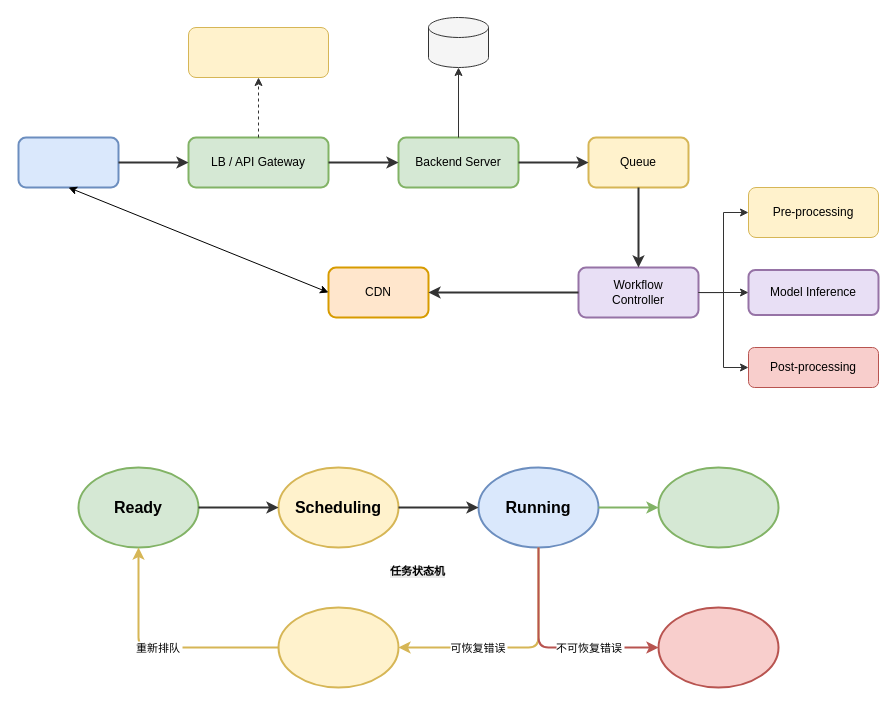
Some shapes in this 896 by 706 pixel diagram are drawn without their labels. Here are the shapes that lost their labels. From the top down, the centre of each, then its label:
At (x=258, y=52): "Rate Limiter Check Quota".
At (x=458, y=42): "DB".
At (x=68, y=162): "Client".
At (x=718, y=507): "Completed".
At (x=338, y=647): "Retry".
At (x=718, y=647): "Failed".
